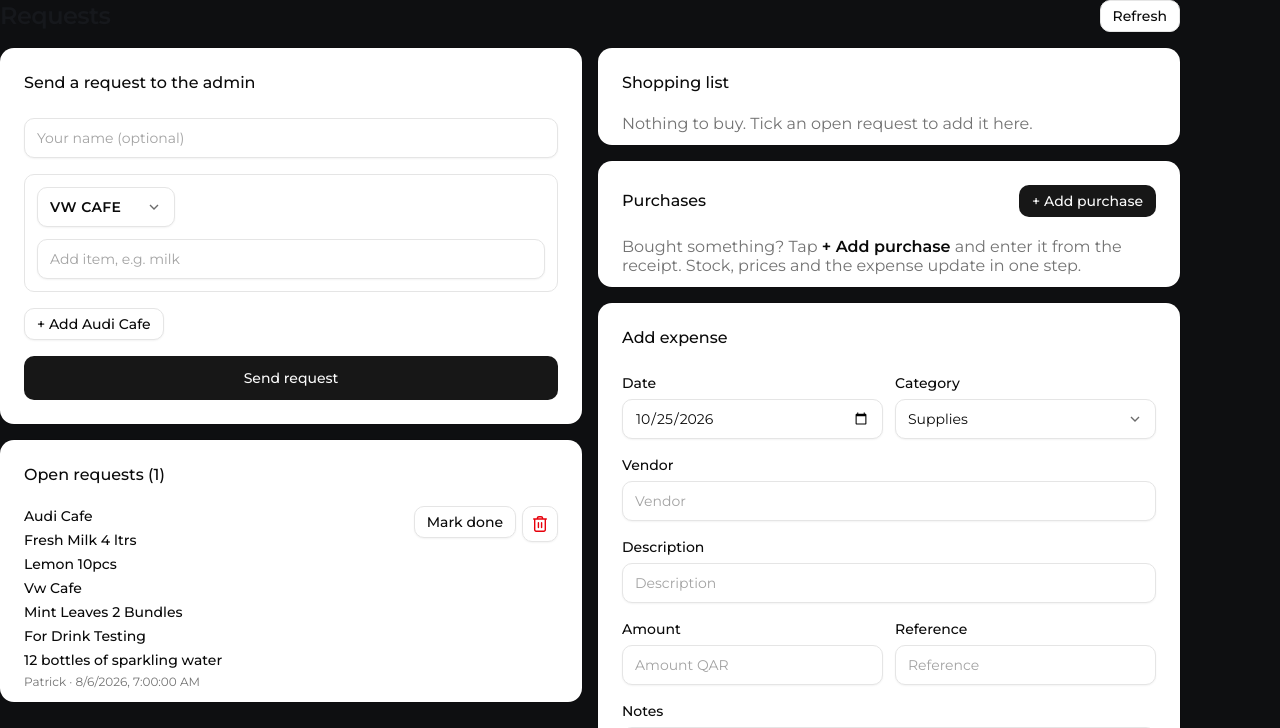
raising an expense from a requested item › takes the cafe from the heading the item sits under
Click the button titled "Open this request": point(58, 516) left=24, top=506, right=402, bottom=690
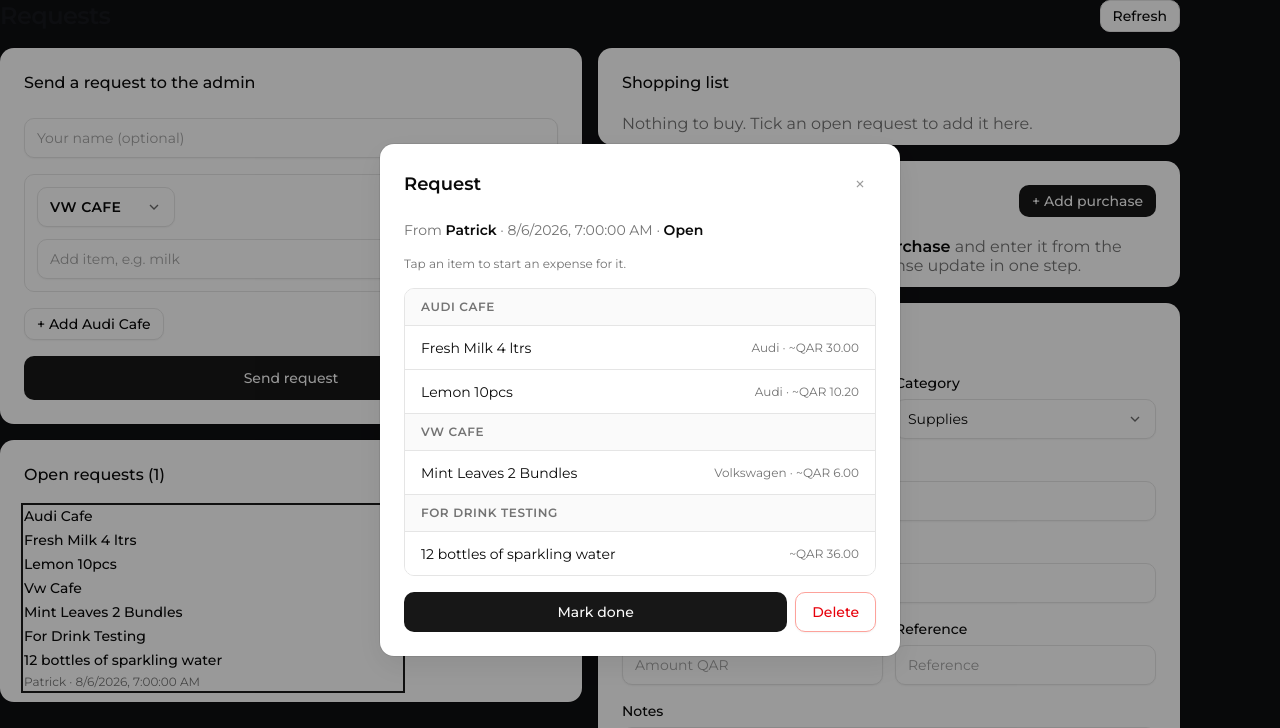
Click the button "Mint Leaves 2 Bundles Volkswagen · ~QAR 6.00": point(499, 472) left=405, top=450, right=875, bottom=494
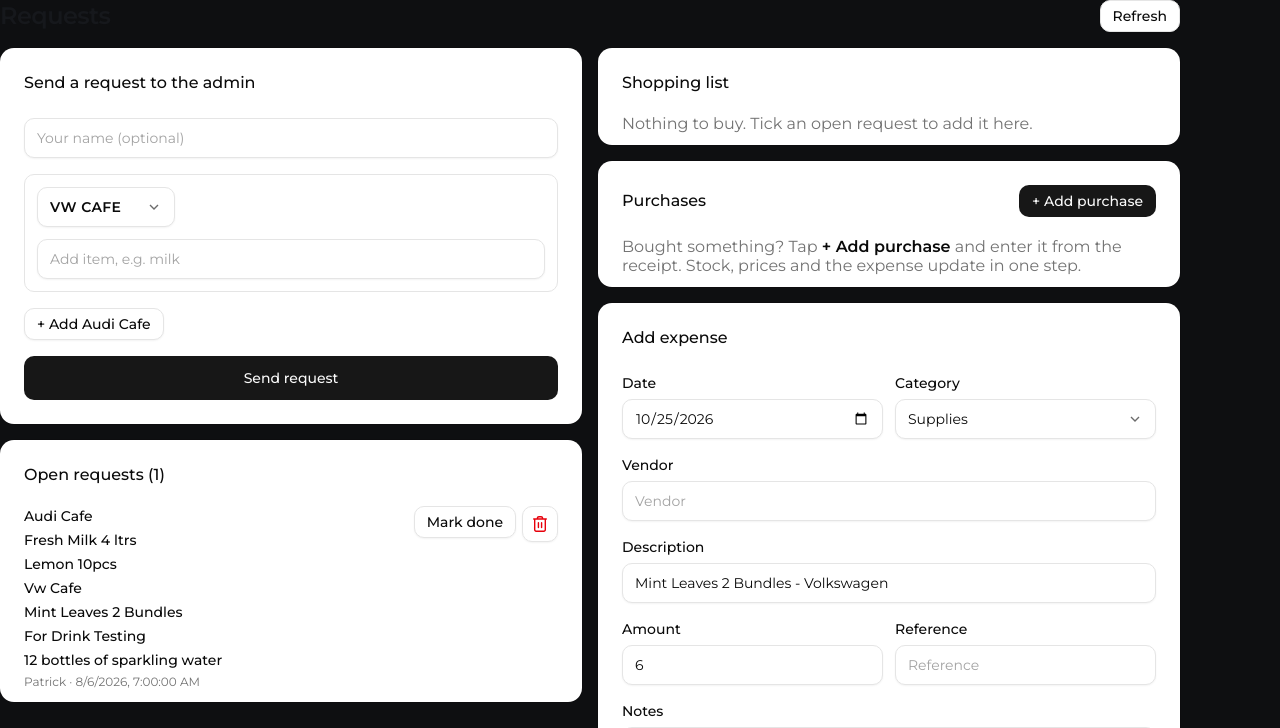
Now the field with placeholder "Description" holds "Mint Leaves 2 Bundles - Volkswagen", box left=622, top=563, right=1156, bottom=603
